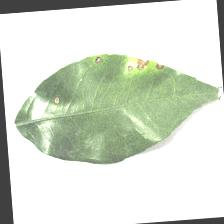canker: (89, 51, 171, 82)
